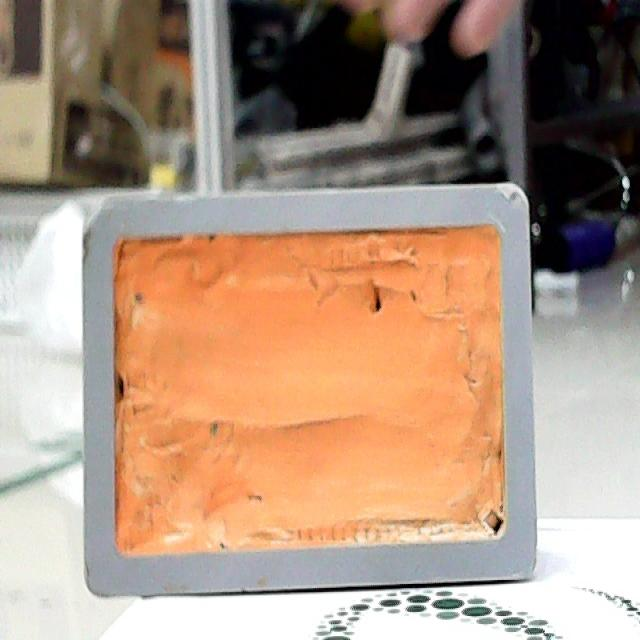block: (75, 188, 542, 598)
